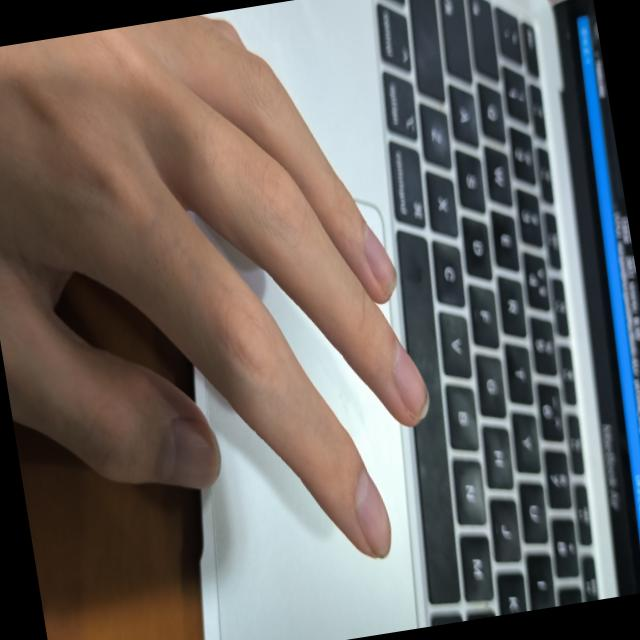Nail: (164, 419, 220, 490), (356, 470, 391, 560), (393, 344, 427, 419), (363, 222, 396, 294)
